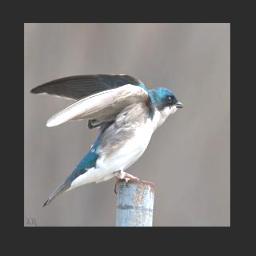Swallow: (29, 70, 186, 210)
